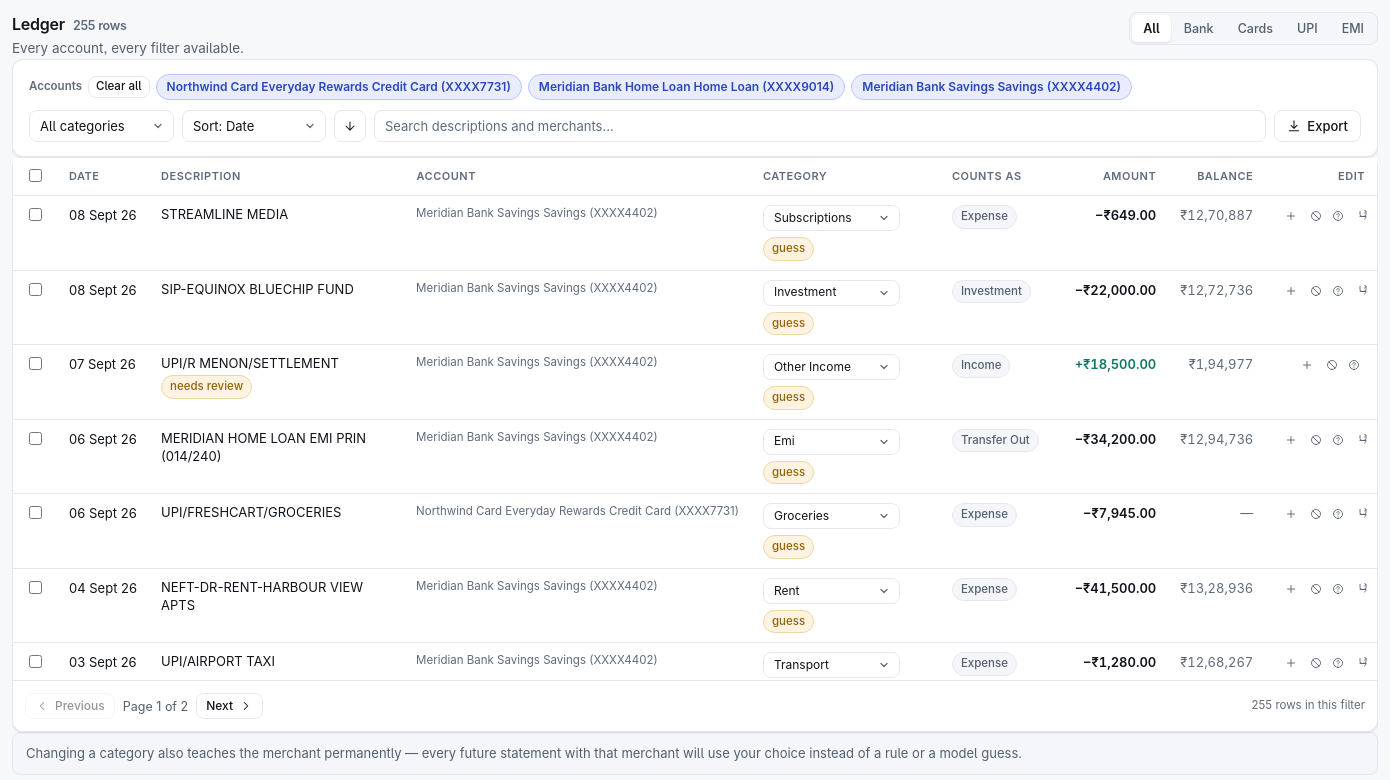
Ledger › says so when a search matches nothing, rather than showing the whole ledger
Type "nothingmatchesthis" into the search field with placeholder "Search descriptions and merchants…". click: (820, 126)
box: [374,110,1266,142]
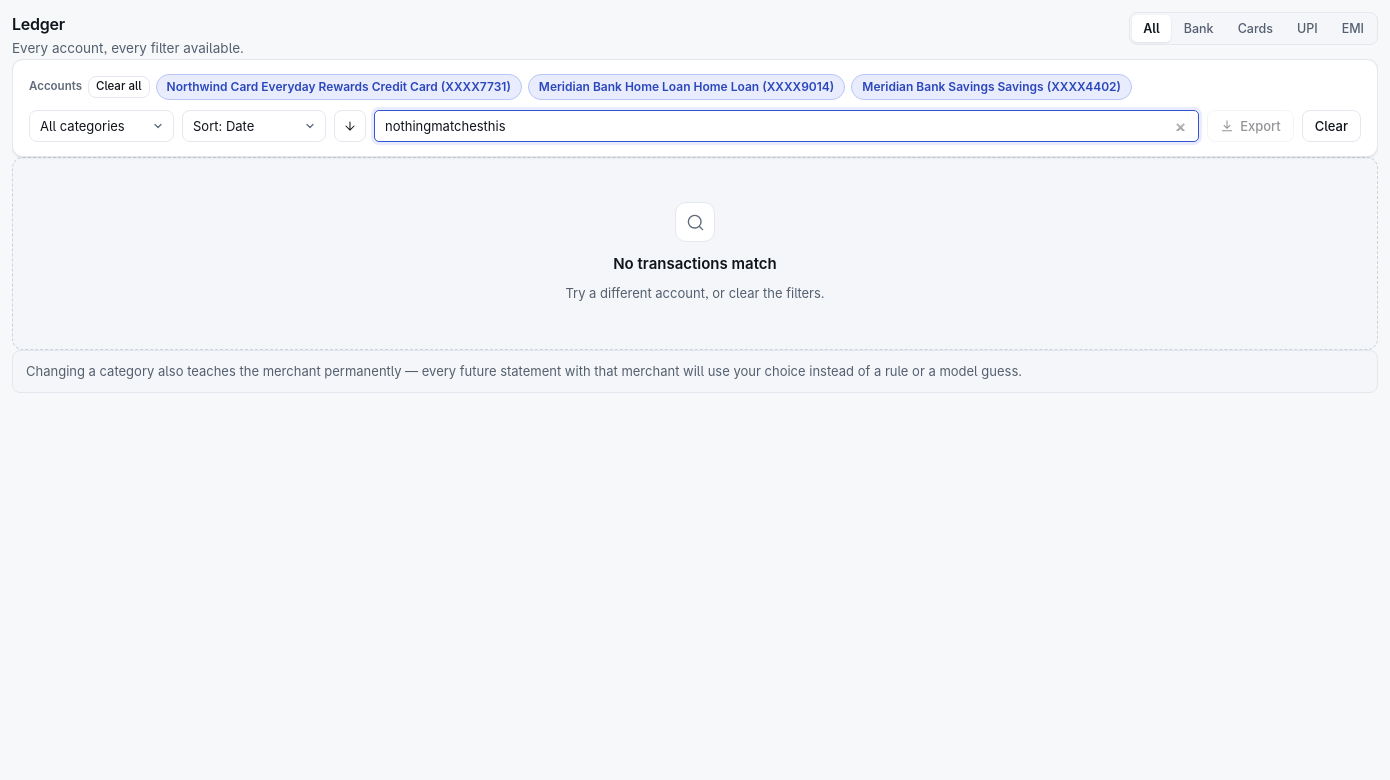
Expected: the heading "No transactions match" is shown, [613,252,777,275]
